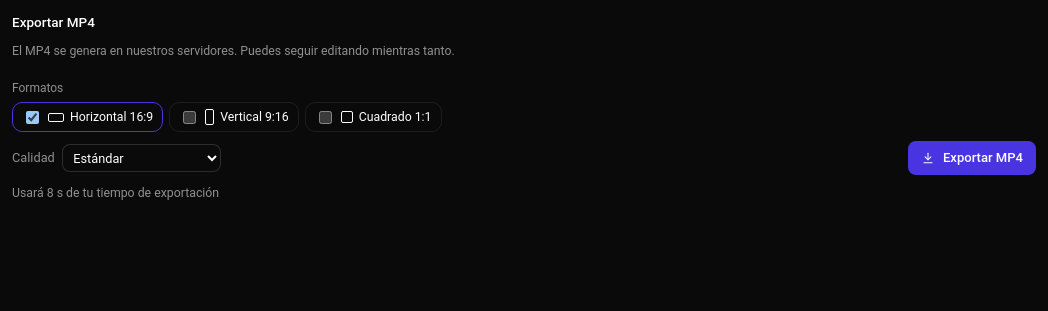
Test: ExportPanel: export on demand › remembers a verdict for this version of the video; a changed video is checked again
The width and height of the screenshot is (1048, 311).
Later steps or results of the test are not shown.
Click the checkbox labelled "Horizontal 16:9" at (32, 117), box x1=26 y1=111 x2=39 y2=124
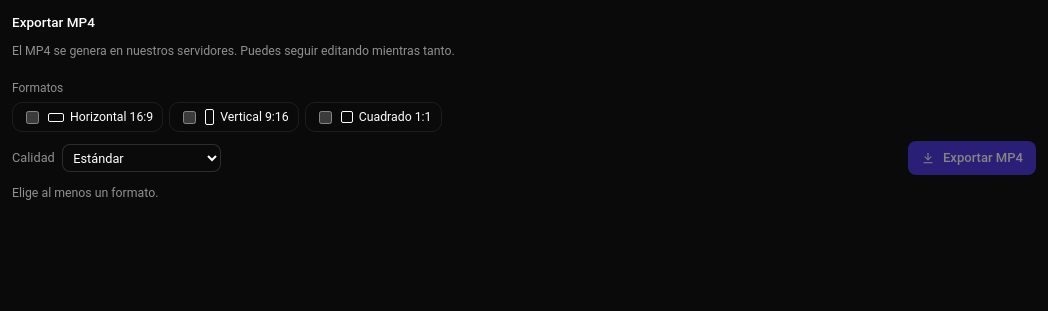
Click the checkbox labelled "Vertical 9:16" at (190, 117), box x1=183 y1=111 x2=196 y2=124
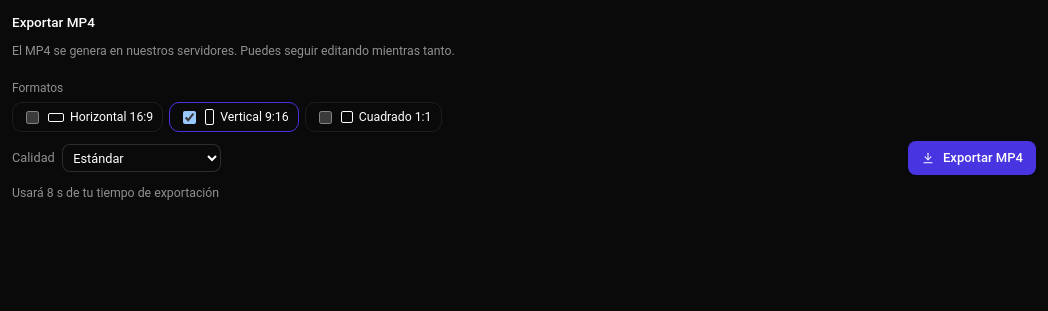
Click the button "Exportar MP4" at (972, 158), box x1=908 y1=141 x2=1036 y2=175
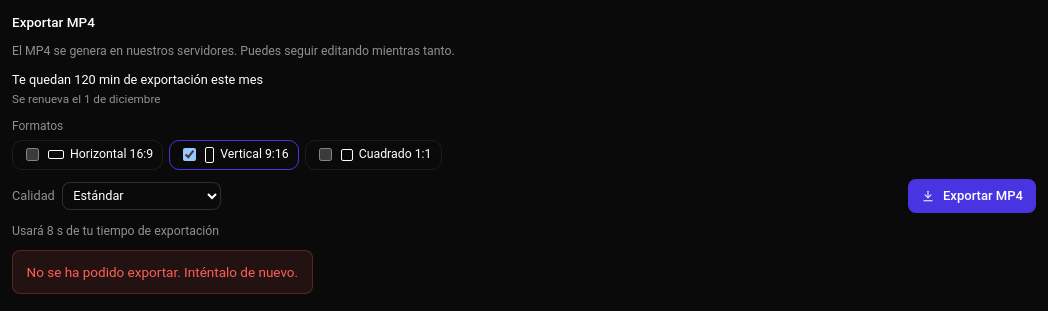
Expected: the button "Exportar MP4" is enabled, x1=908 y1=179 x2=1036 y2=213
